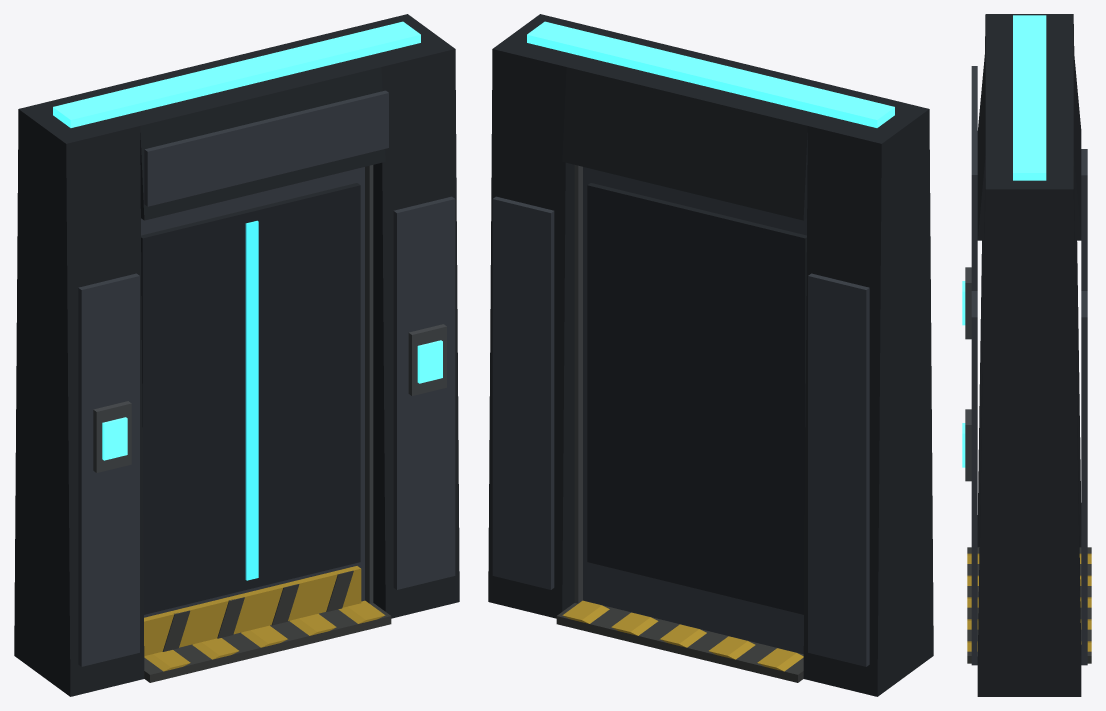
The model's file is device_door.glb.
3 renders of one model, left to right at view 1: azimuth 30°, elevation 25°; view 2: azimuth 150°, elevation 25°; view 3: azimuth 270°, elevation 25°, orthographic. The views are drawn at different scales.
Visible parts, largest first — view 1: device_door_mesh; view 2: device_door_mesh; view 3: device_door_mesh.
Part boxes in pixels (<box>): device_door_mesh: <box>14,14,459,696</box>; device_door_mesh: <box>488,14,933,696</box>; device_door_mesh: <box>962,14,1091,696</box>.
Size of the model in its own units: 2 by 2.74 by 0.625.
